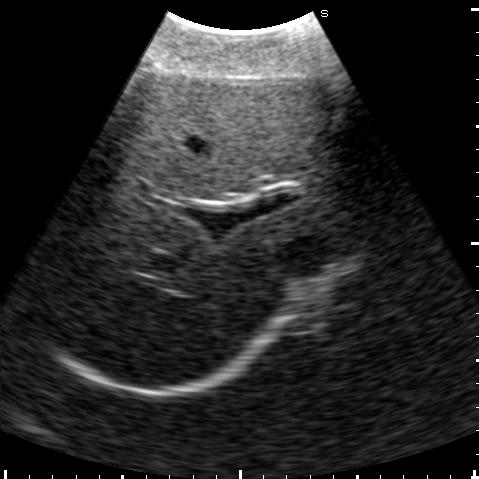IVC: (277, 236, 330, 273)
S1: (312, 204, 366, 245)
S4: (104, 74, 337, 199)
